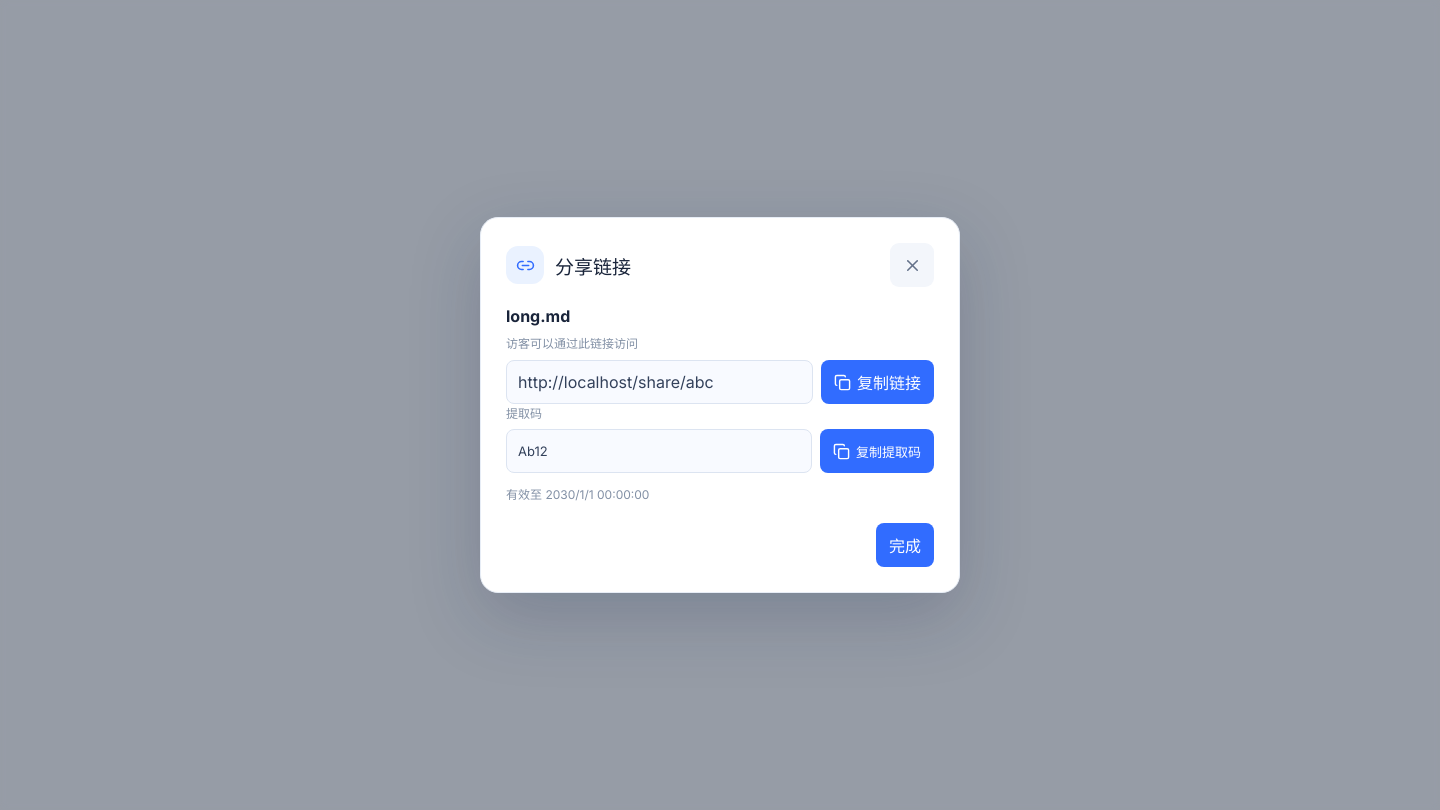
Scenario: share link dialog › reports clipboard errors and blocks inactive links
Click the button "复制提取码" at (877,451), box x1=820 y1=429 x2=934 y2=473
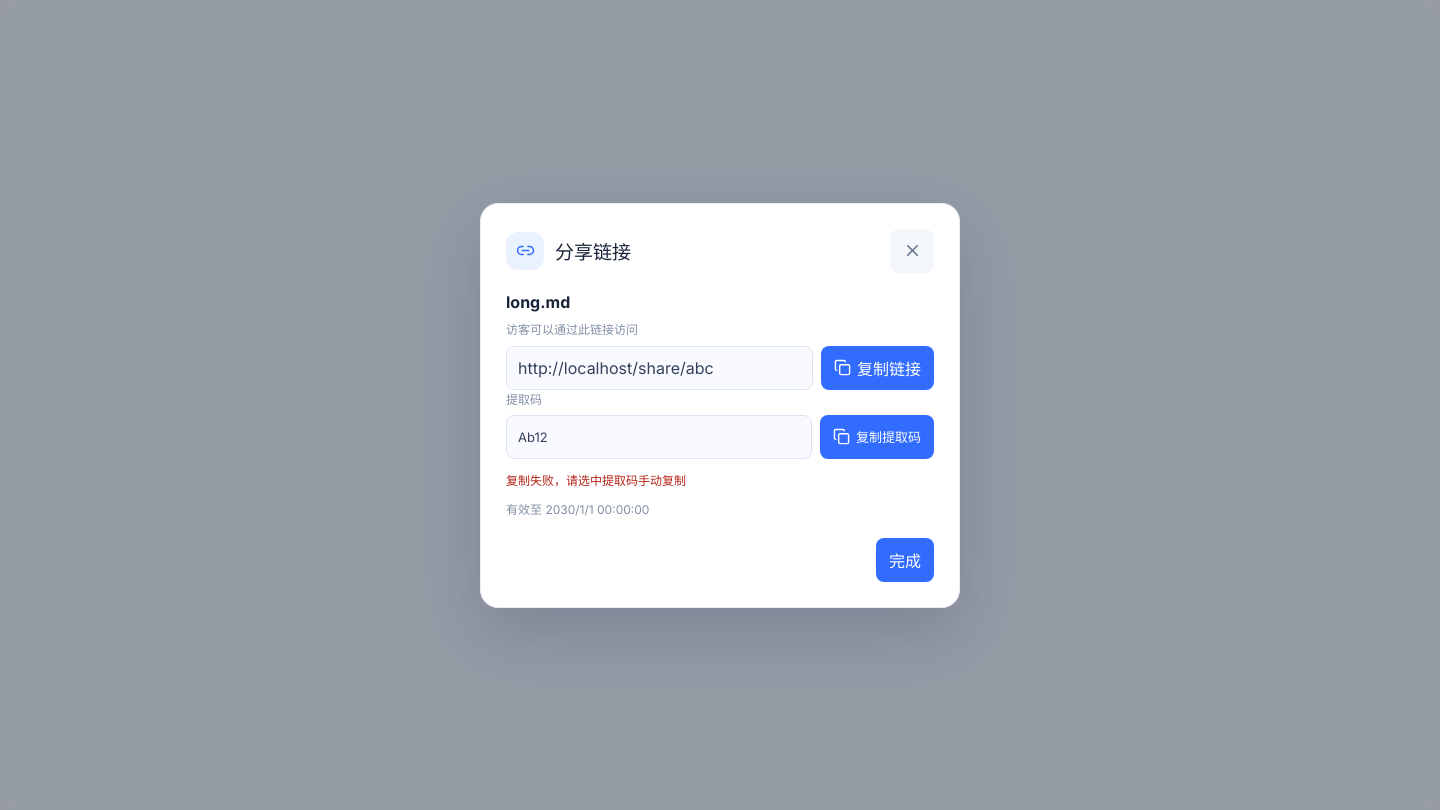
Expected: the message "复制失败，请选中提取码手动复制" is shown, x1=506 y1=472 x2=686 y2=488
